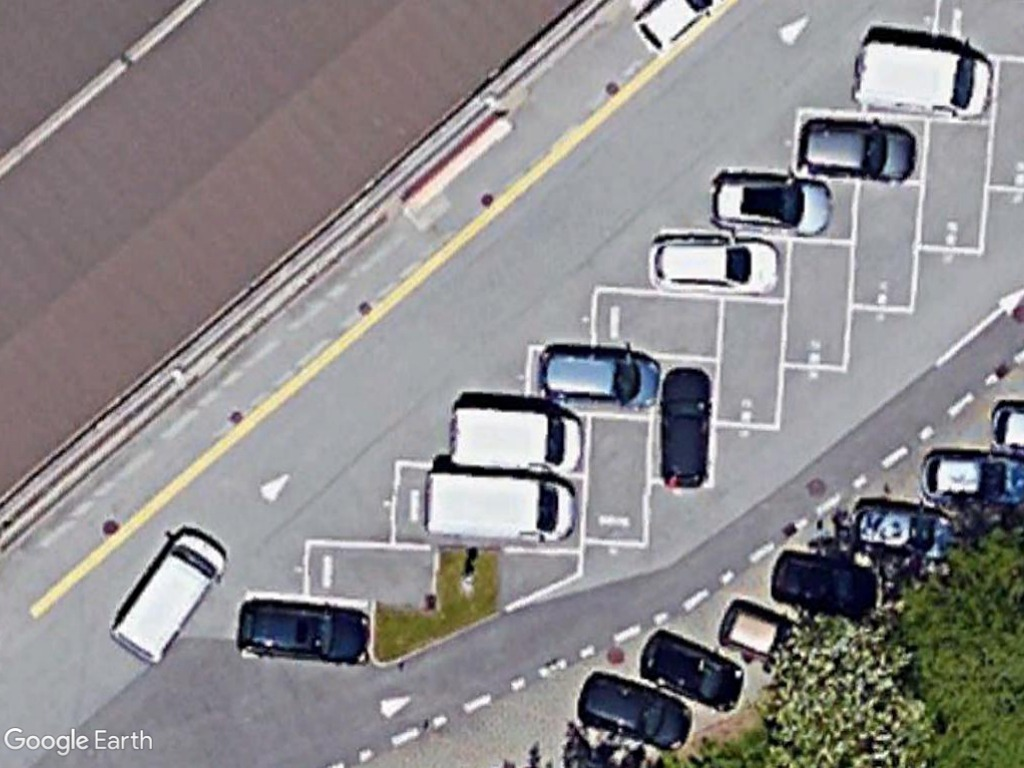car: (637, 624, 748, 717), (575, 669, 696, 754), (642, 233, 788, 303), (236, 594, 373, 667), (705, 168, 833, 239), (534, 343, 661, 411), (799, 116, 919, 184)
van: (105, 523, 232, 666), (422, 466, 577, 547), (850, 36, 995, 120), (445, 402, 589, 476)
